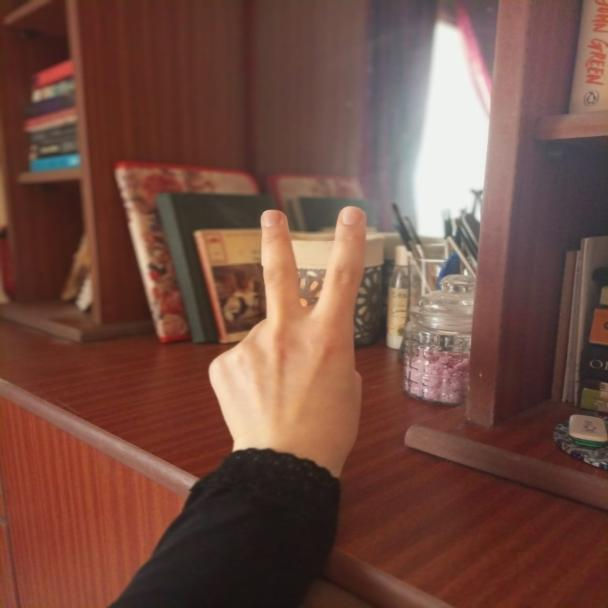two: (179, 195, 401, 503)
